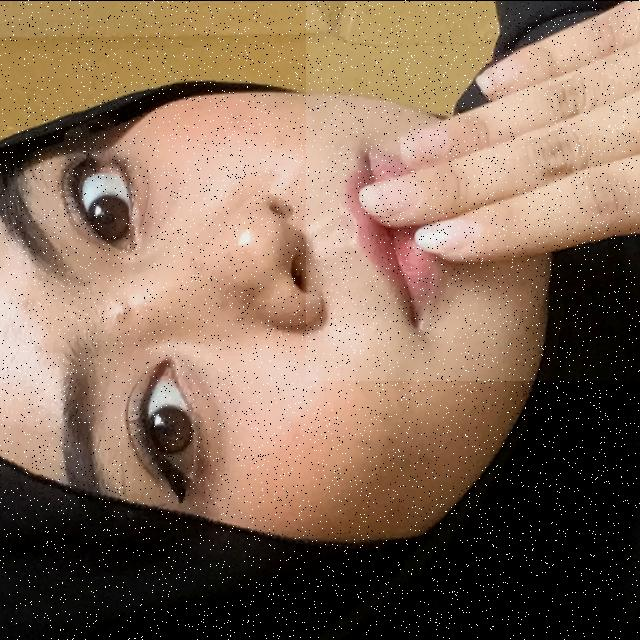ganteng: (306, 0, 640, 380)
